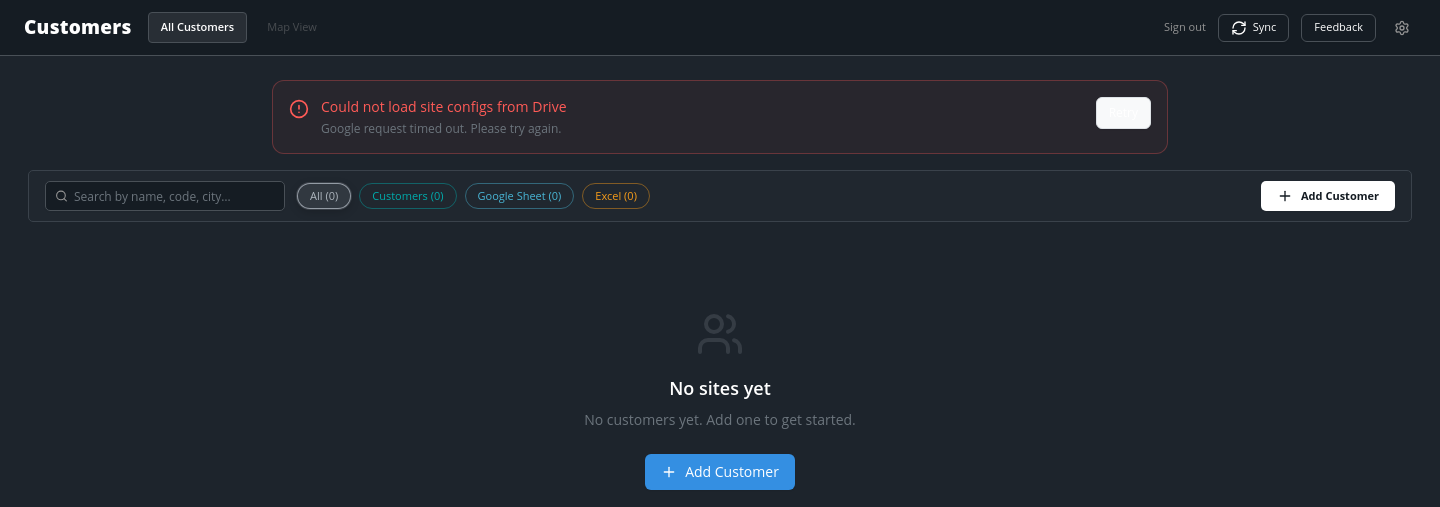
Test: Drive site-configs › shows a plain Retry for a transient failure once Drive access already exists
Check: the message shows "timed out", box [321,120,562,137]
Click the button "Retry" at coordinates (1123, 113), box [1096,97,1151,129]
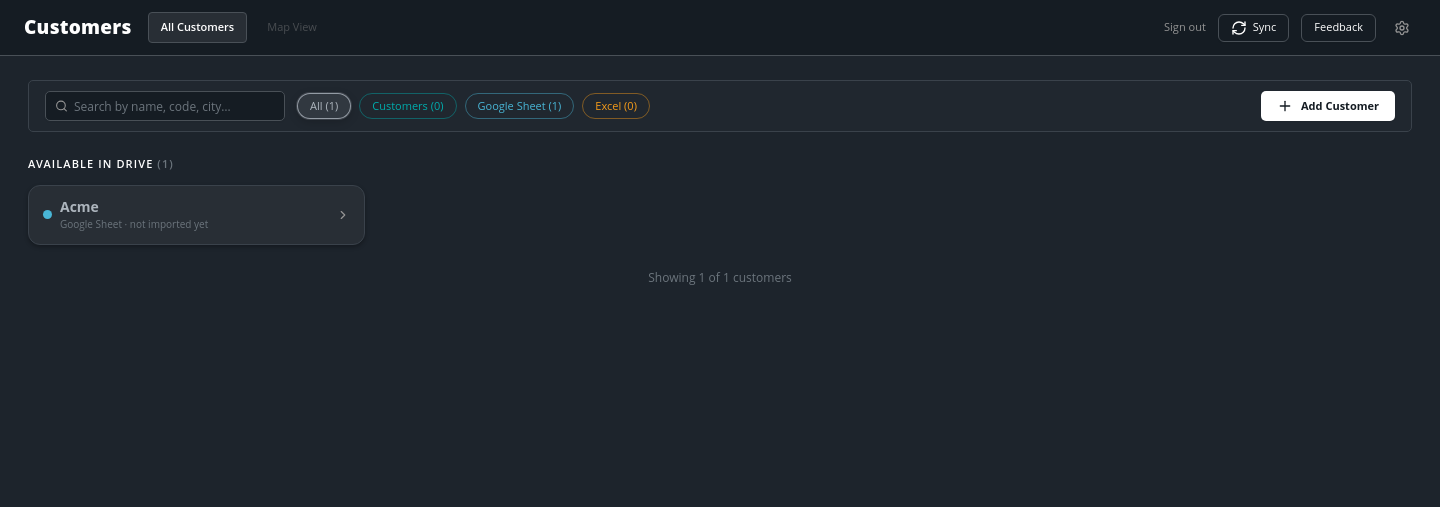
Check: the heading "Acme" is shown, box [60,198,99,215]
